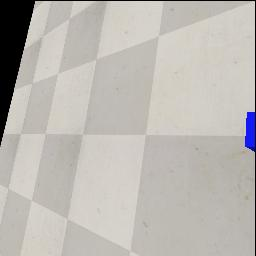box: (245, 111, 255, 151)
